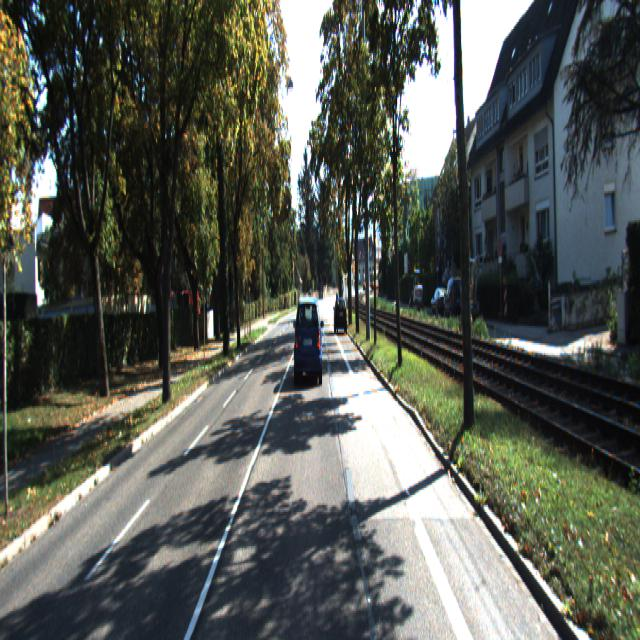Car: (294, 296, 323, 390), (461, 257, 479, 323), (444, 276, 466, 322), (431, 288, 451, 321), (334, 300, 348, 337)
